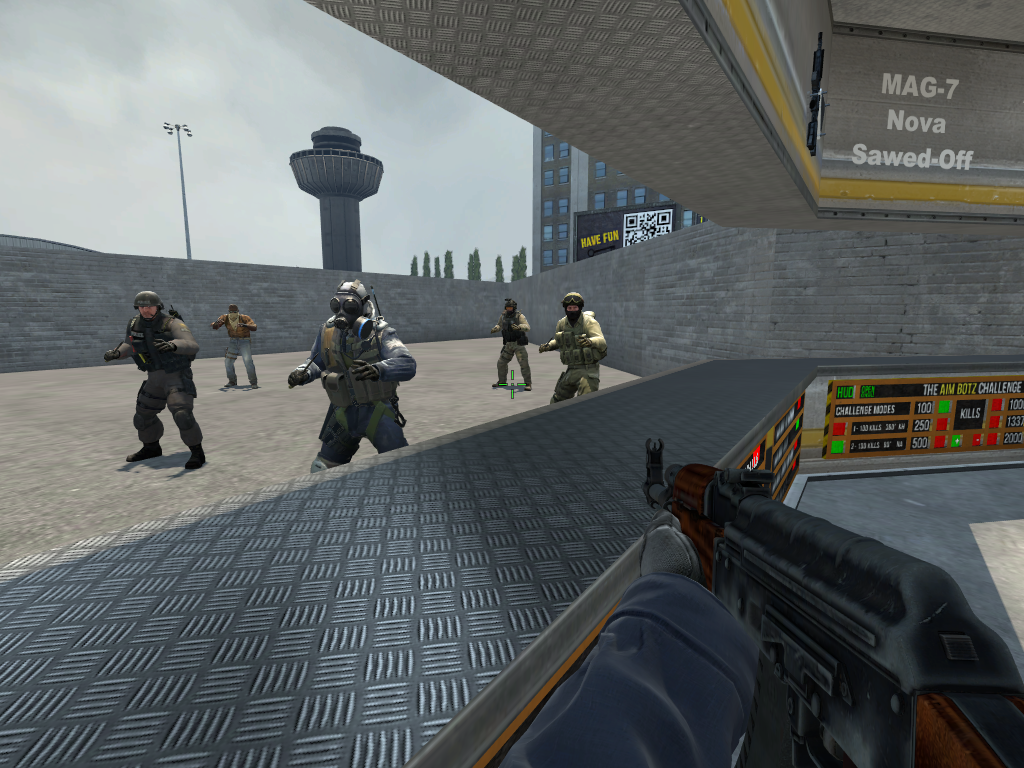ct head: (328, 277, 374, 340), (131, 289, 167, 323), (558, 289, 588, 324), (500, 295, 522, 317)
tr head: (225, 300, 241, 319)
